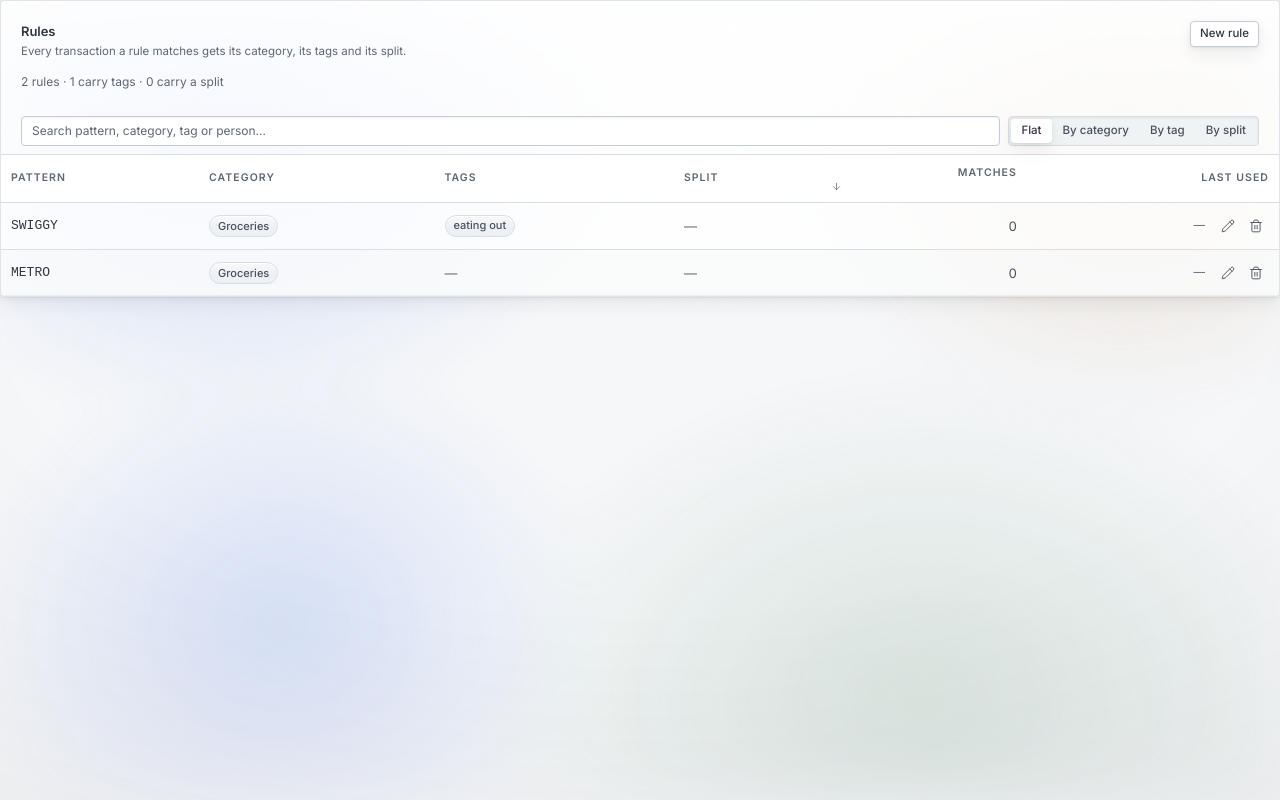
Test case: MappingsSection CRUD › searches across tags and people, not just the pattern
expect the text "SWIGGY" is shown: met, box [1, 202, 199, 249]
Type "eating" into the search field with placeholder "Search pattern, category, tag or person…" at (511, 130), box [21, 116, 1000, 146]
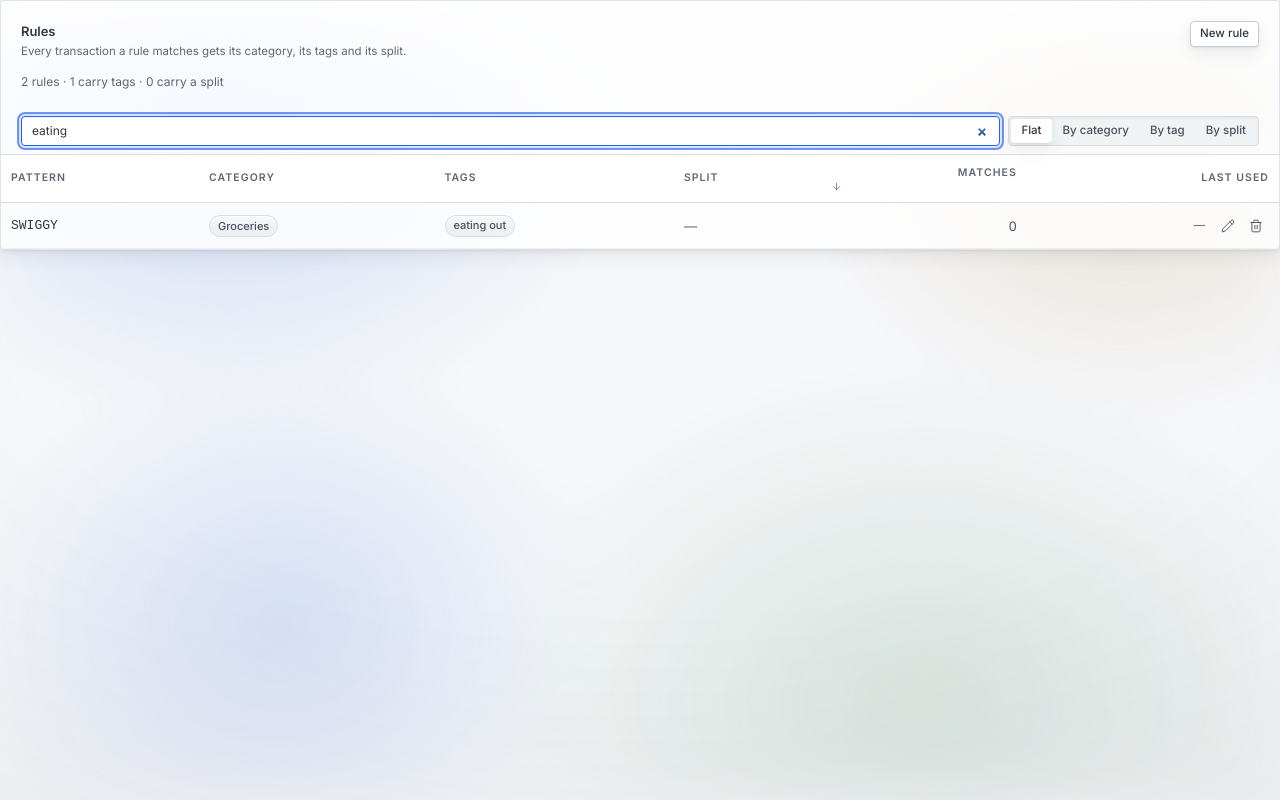
expect the text "SWIGGY" is shown: met, box [1, 202, 199, 249]
expect the text "METRO" is gone: met
